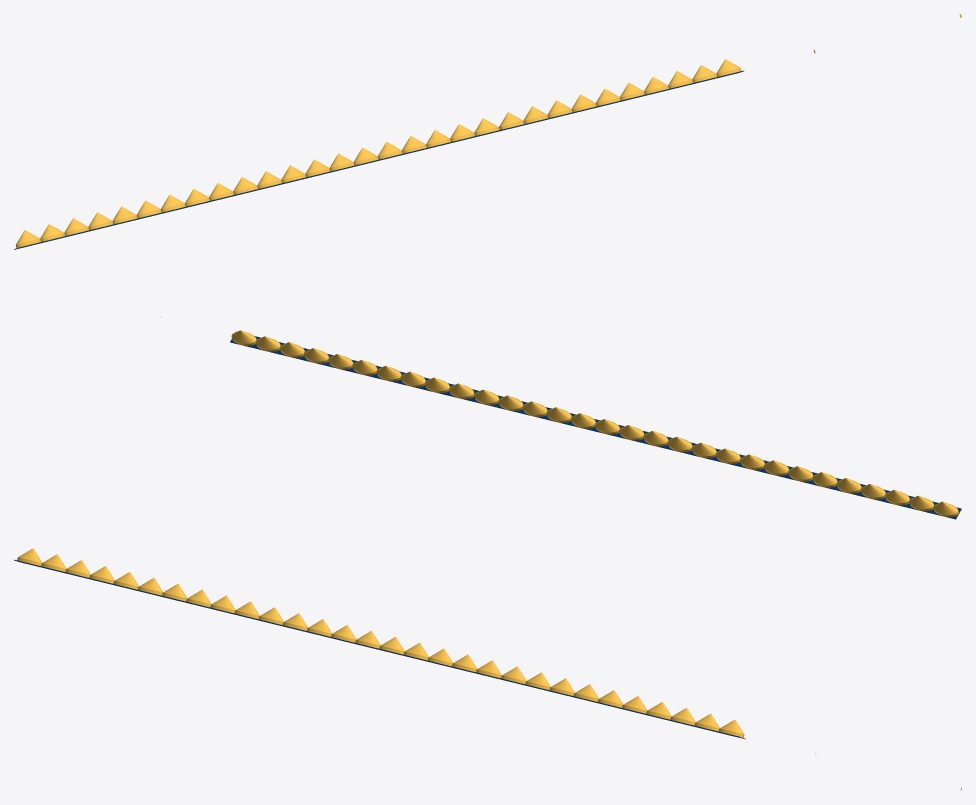
Rendered from pinchosEnUnity.fbx.
3 views of the same model, one above another, from view 1: azimuth 30°, elevation 25°; view 2: azimuth 150°, elevation 25°; view 3: azimuth 330°, elevation 25° (orthographic).
Parts seen in each view (by area): view 1: Cube.001; view 2: Cube.001; view 3: Cube.001.
Boxes of the visible parts, x1,y1,x2,y2 form: Cube.001: (14, 14, 961, 249); Cube.001: (159, 315, 961, 519); Cube.001: (14, 548, 961, 790).
Size of the model in its own units: 3911 by 63.63 by 52.13.
1 material, 1 textured.
